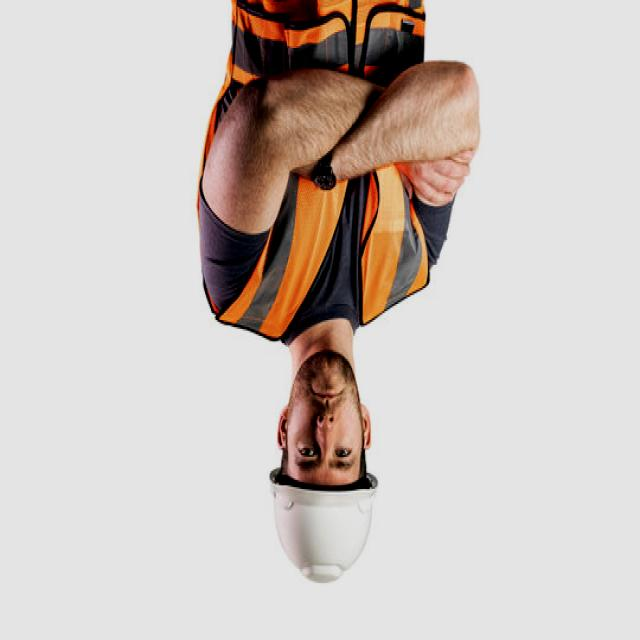Hard Hat: (267, 460, 385, 590)
Reflective Vest: (190, 0, 438, 352)
